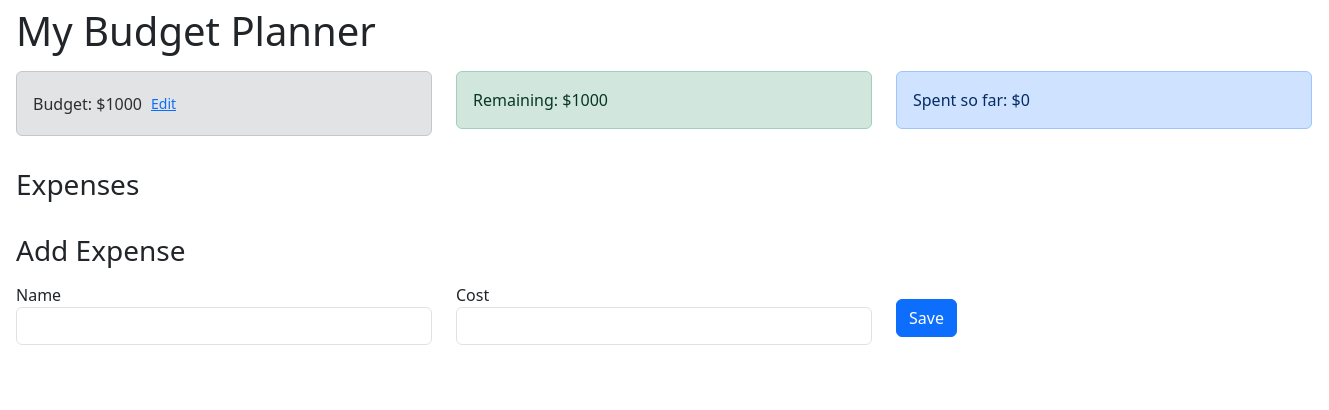
Test: Expense Creation › new expense is correctly added
The width and height of the screenshot is (1329, 410).
Type "Shopping" into the field labelled "Name" at (224, 326), box left=16, top=307, right=432, bottom=345
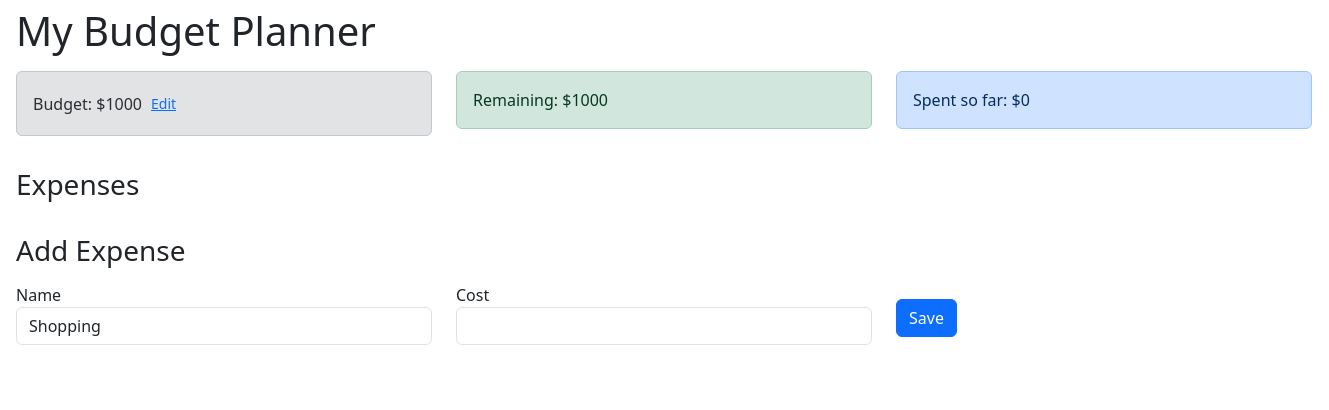
Type "100" into the field labelled "Cost" at (664, 326), box left=456, top=307, right=872, bottom=345
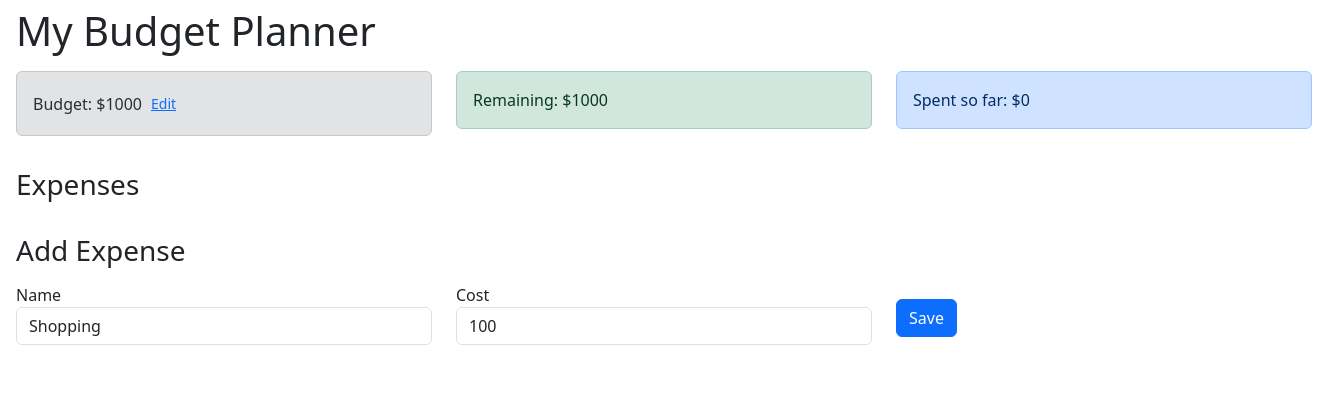
Click the button "Save" at (926, 318), box left=896, top=299, right=957, bottom=337
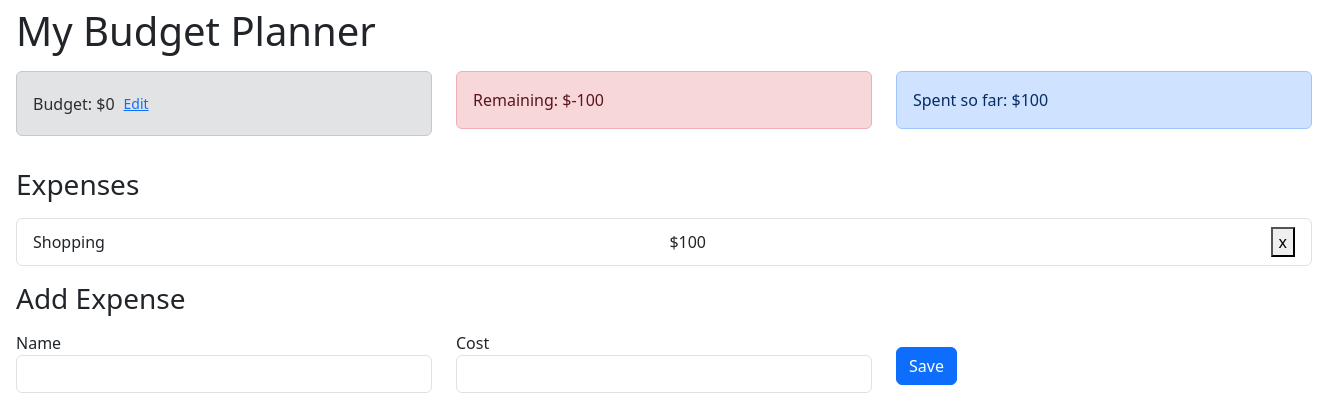
Check: the text "$100" is shown, box left=669, top=230, right=706, bottom=254
Check: the text "Shopping" is shown, box left=33, top=230, right=105, bottom=254
